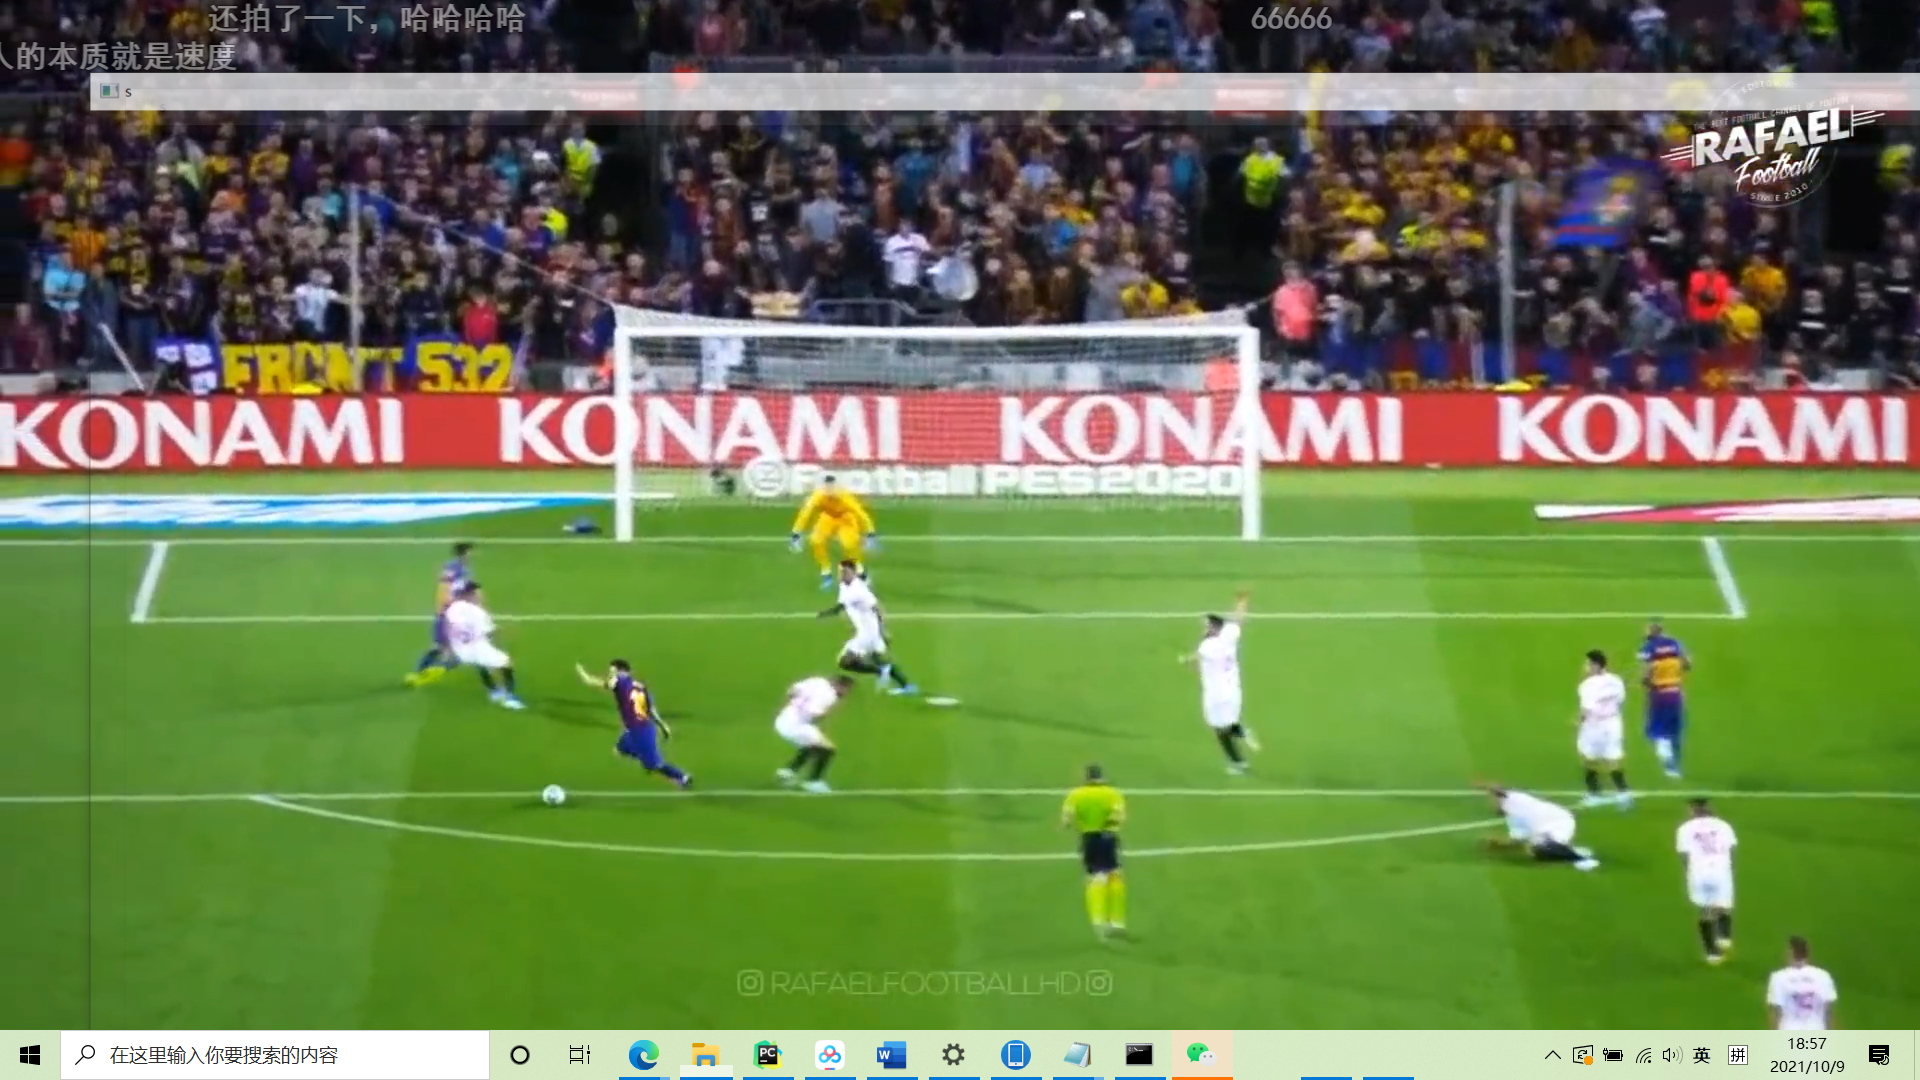ft: (538, 781, 572, 810)
